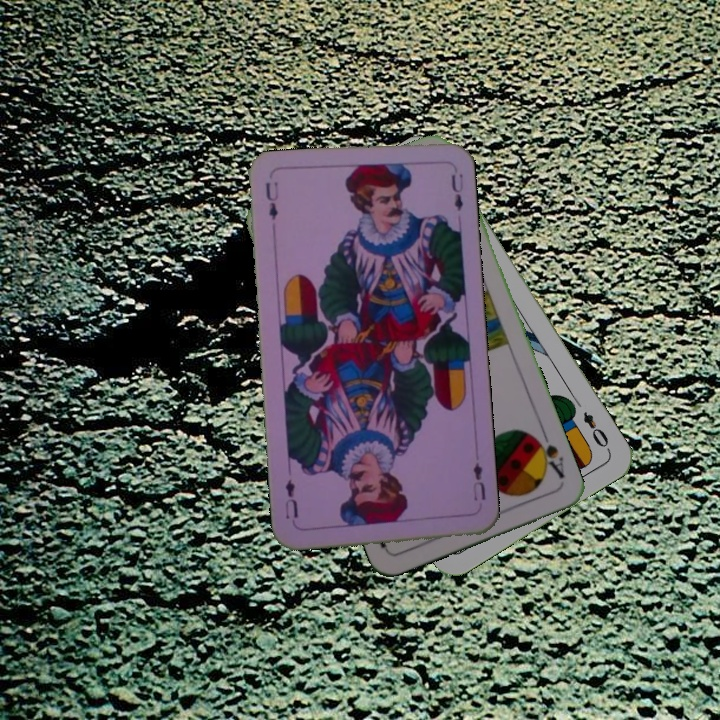EO: (578, 407, 613, 454)
EU: (261, 177, 282, 223), (469, 459, 489, 503)
SA: (529, 428, 567, 482)
